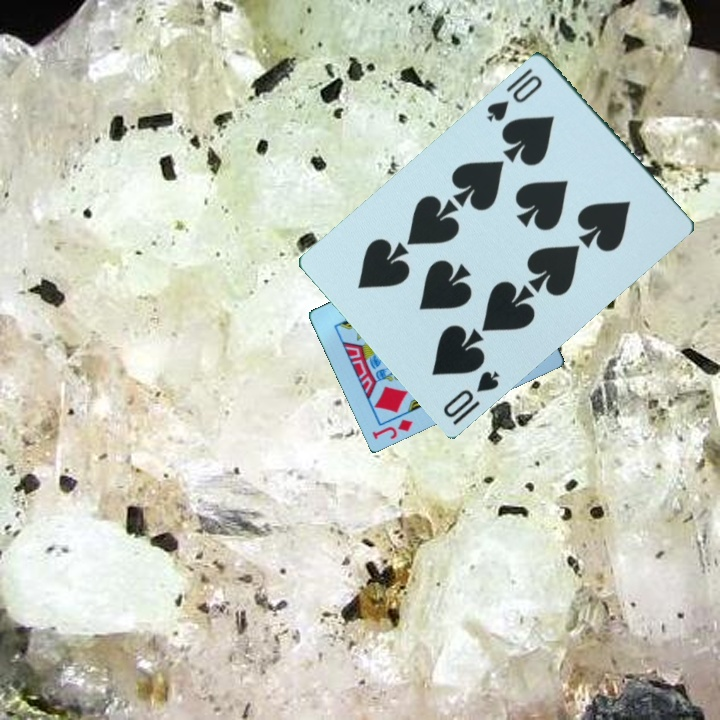10s: (439, 366, 503, 427), (483, 71, 546, 124)
Jd: (369, 415, 416, 442)
